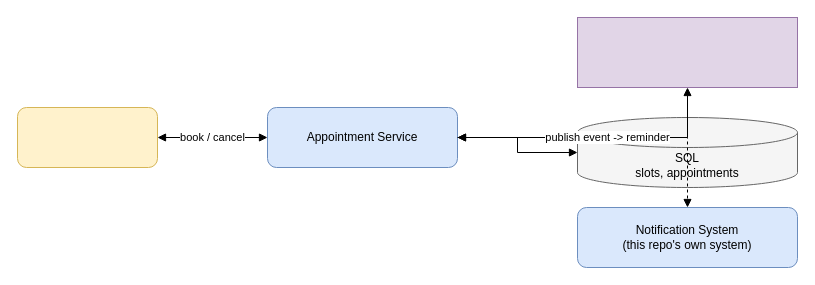
Some shapes in this 815 by 285 pixel diagram are drawn without their labels. Here are the shapes that lost their labels. From the top down, the centre of each, then its label:
At (687,52): "Redis lock:slot:{slotId}".
At (87,137): "Patient".
